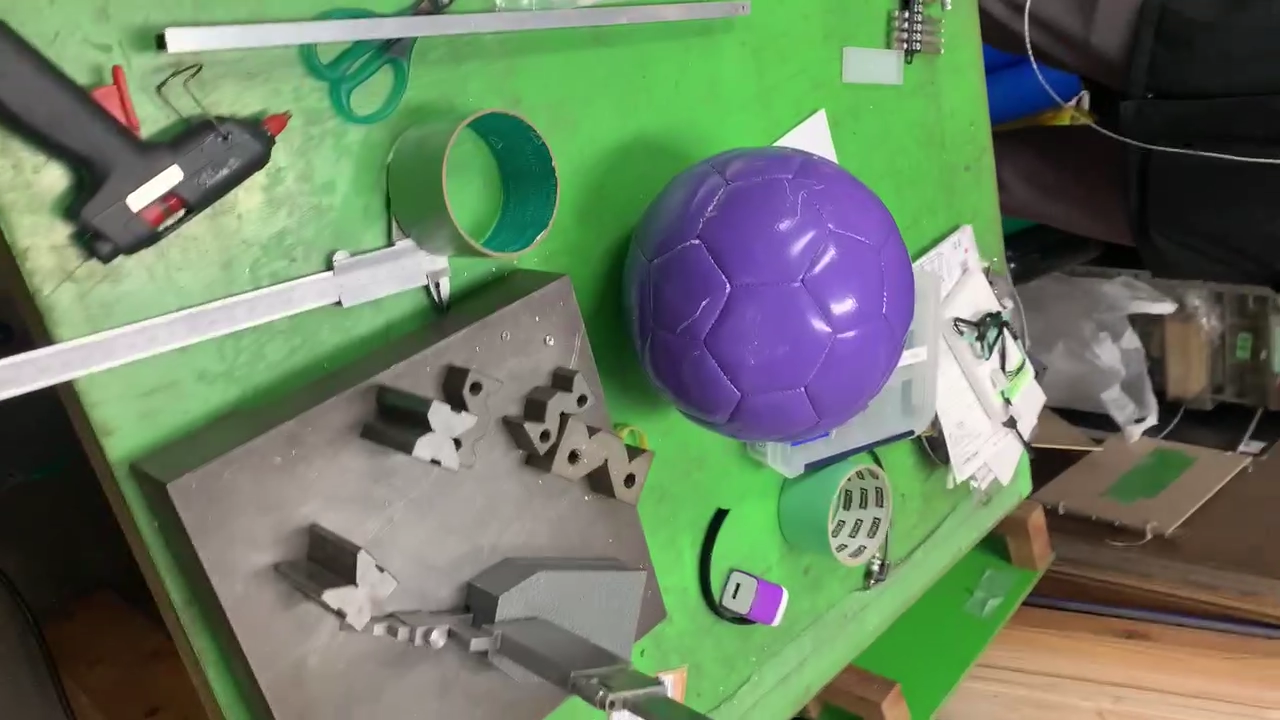purple: (621, 153, 911, 444)
